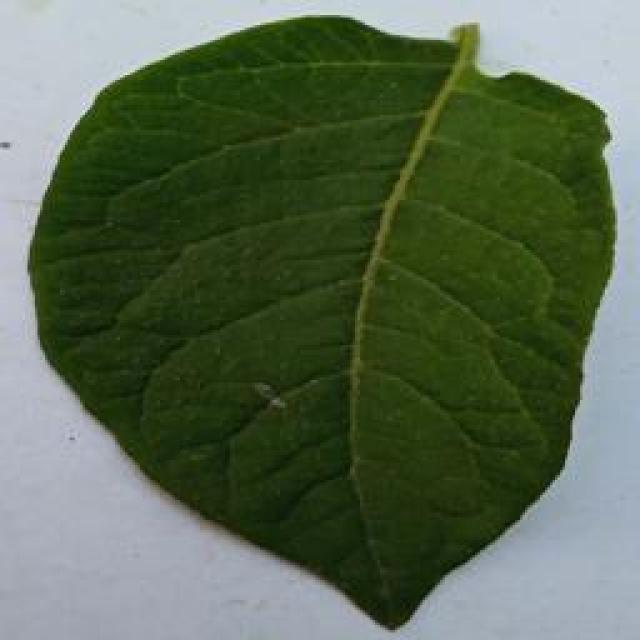Potato_Healthy: (25, 18, 608, 629)
